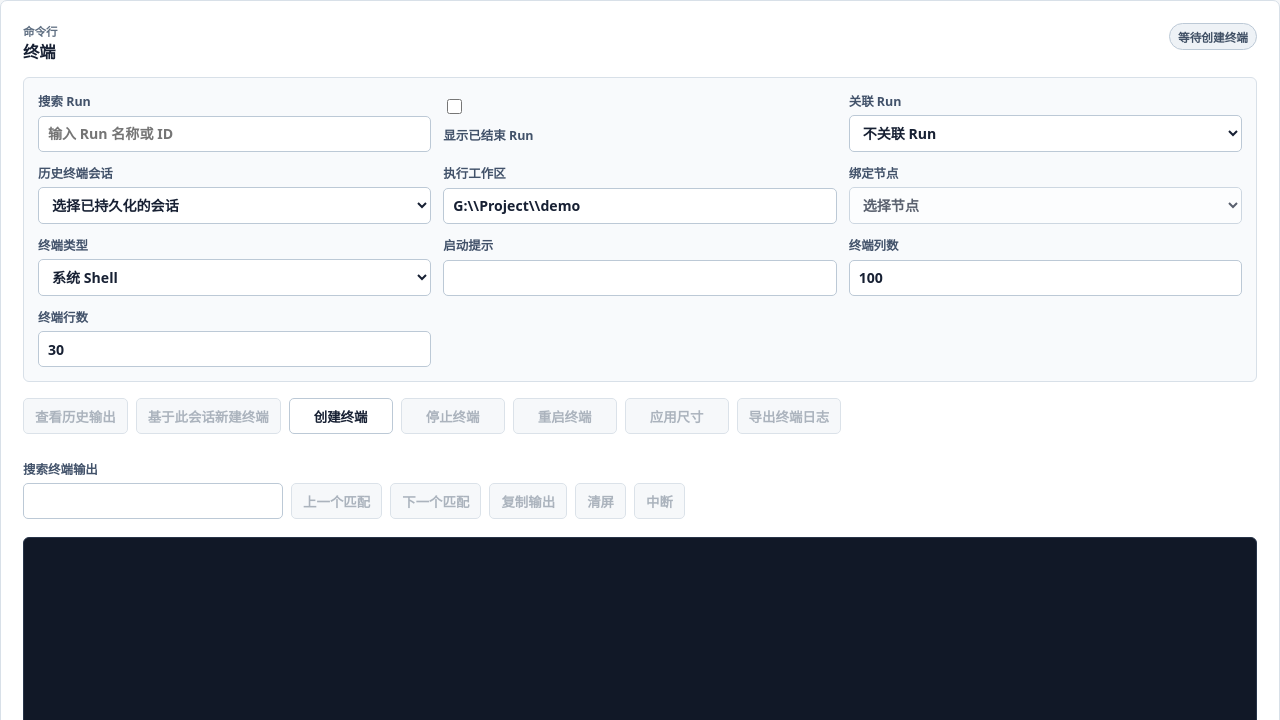
Scenario: TerminalPage › 独立终端导出脱敏日志并显示保存路径
Click the button "创建终端" at (341, 416), box [289, 398, 393, 434]
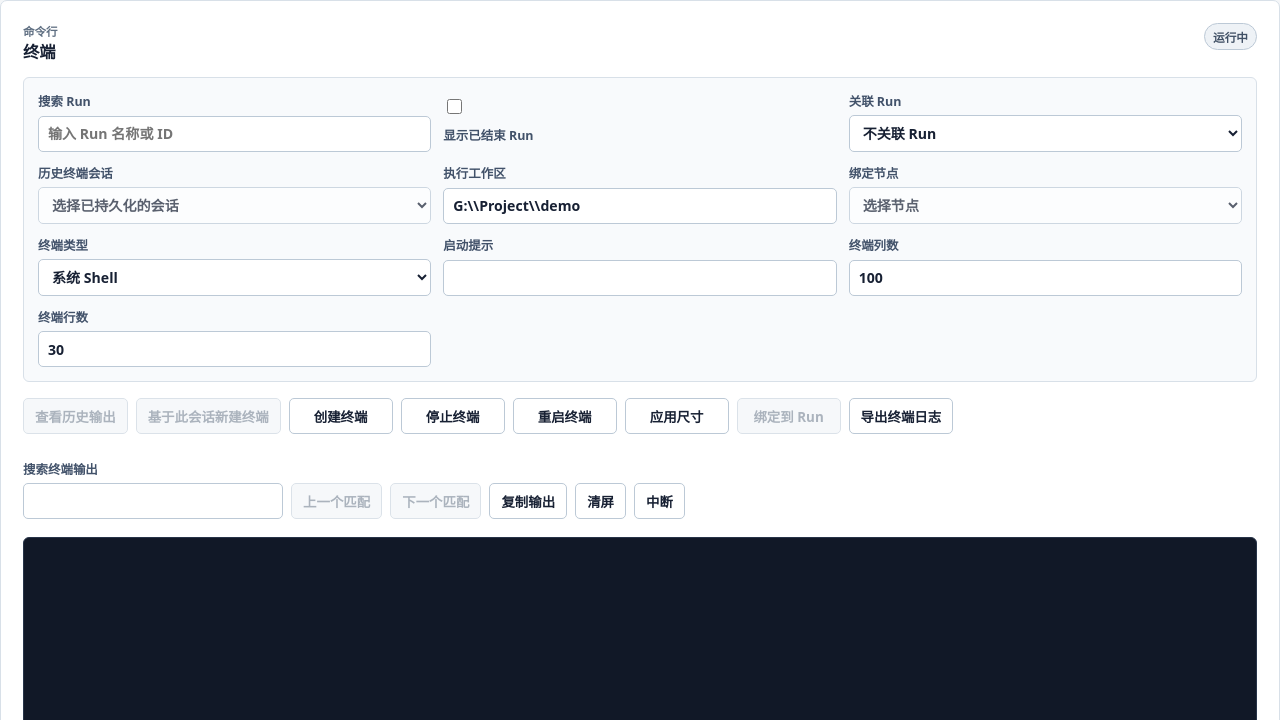
Expected: the button "导出终端日志" is enabled
Click the button "导出终端日志" at (901, 416), box [849, 398, 953, 434]
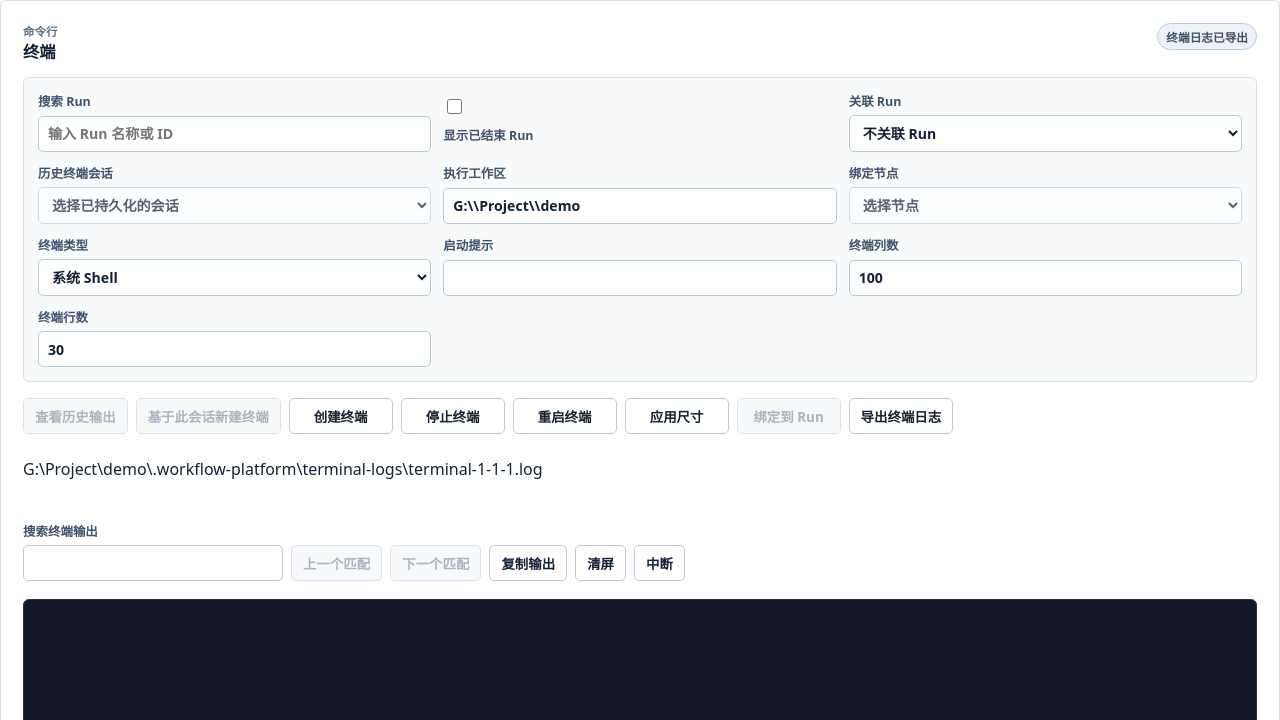
Expected: the message reads "G:\\Project\\demo\\.workflow-platform\\terminal-logs\\terminal-1-1-1.log", [23, 458, 543, 480]
